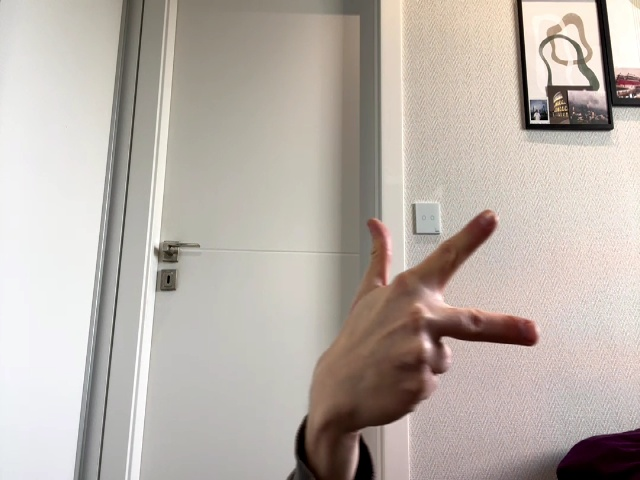K: (315, 210, 539, 440)
